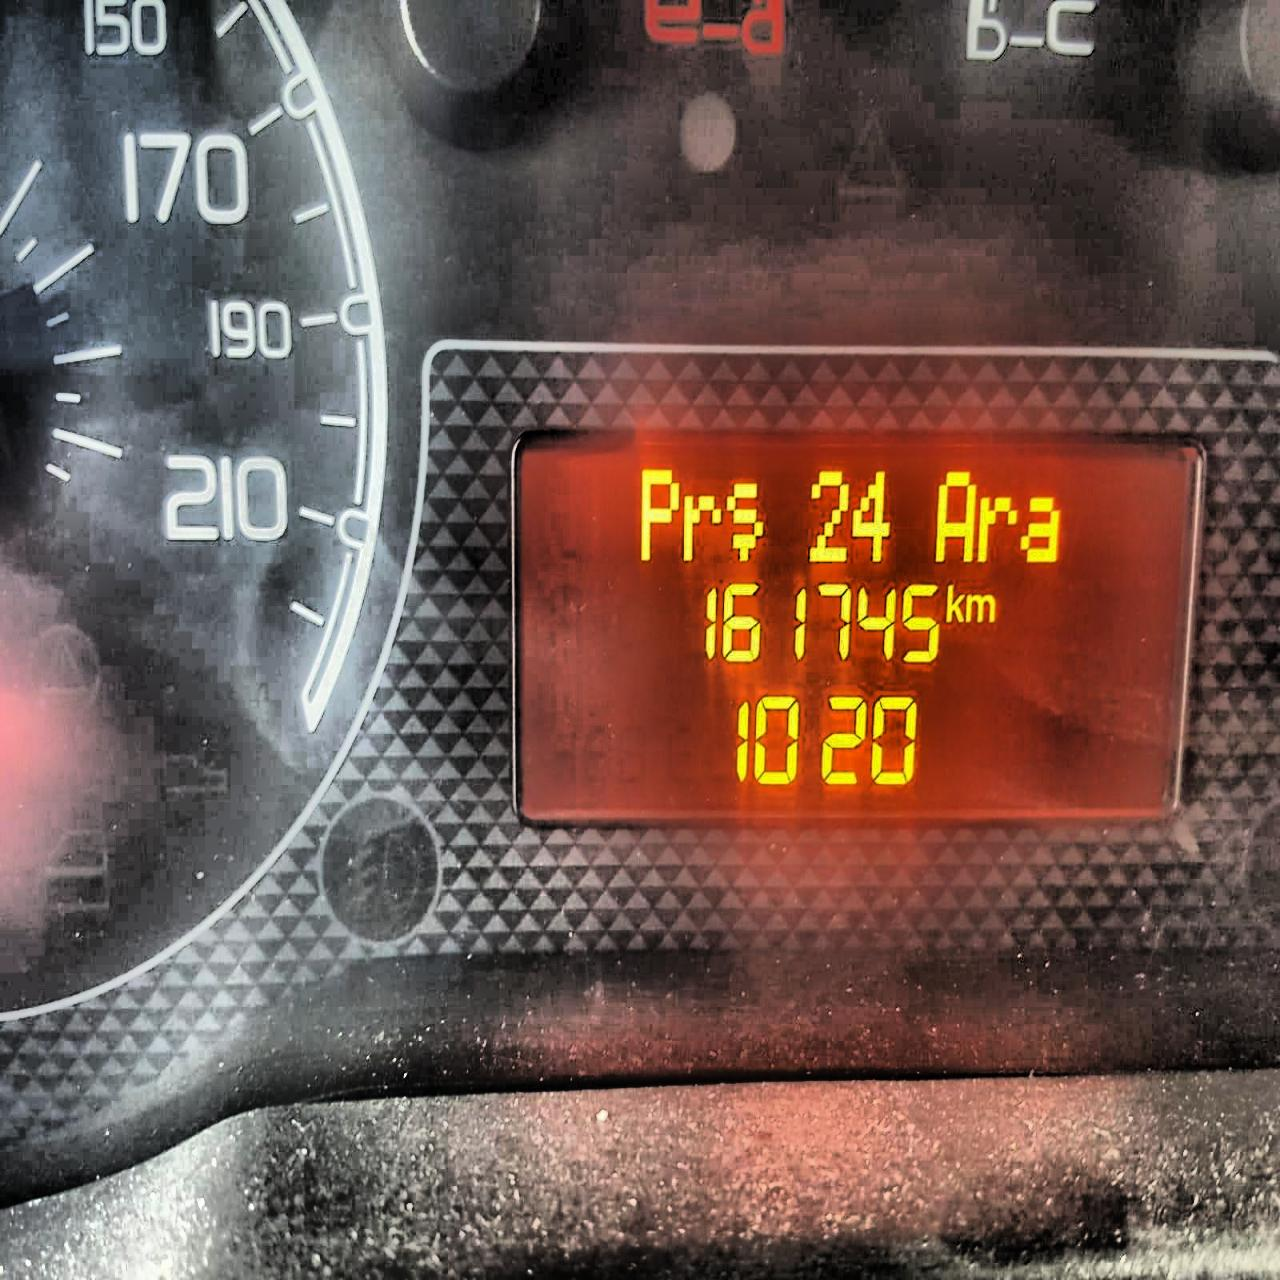0: (870, 693, 917, 789), (755, 692, 797, 788)
1: (731, 696, 750, 781), (702, 579, 716, 662), (792, 584, 806, 663)
2: (806, 464, 849, 570), (821, 692, 865, 787)
4: (852, 467, 896, 564), (855, 579, 897, 665)
5: (900, 579, 939, 666)
6: (722, 578, 762, 666)
7: (816, 579, 850, 660)
X: (635, 459, 678, 559), (933, 468, 974, 567), (975, 485, 1015, 568), (1017, 492, 1061, 568), (726, 475, 763, 560), (683, 488, 722, 559), (965, 591, 996, 626), (944, 579, 965, 624)
odometer: (501, 418, 1216, 835)
